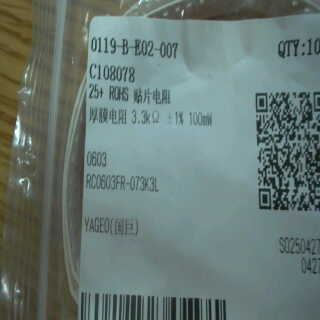3.3kO: (125, 104, 162, 129)
